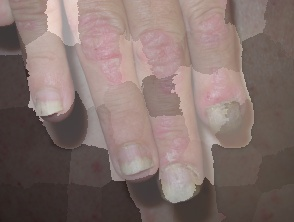Nail_psoriasis: (205, 66, 246, 136), (105, 133, 158, 186), (153, 156, 204, 208), (34, 93, 65, 121)
